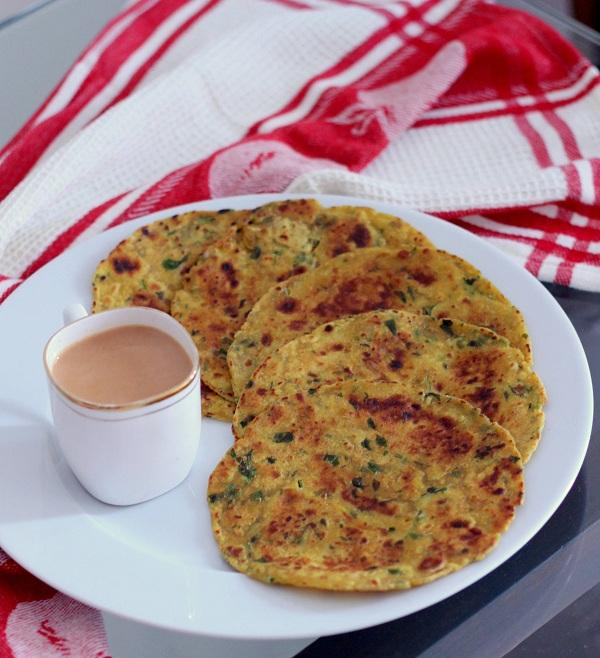thepla: (224, 262, 530, 565), (74, 211, 414, 337)
